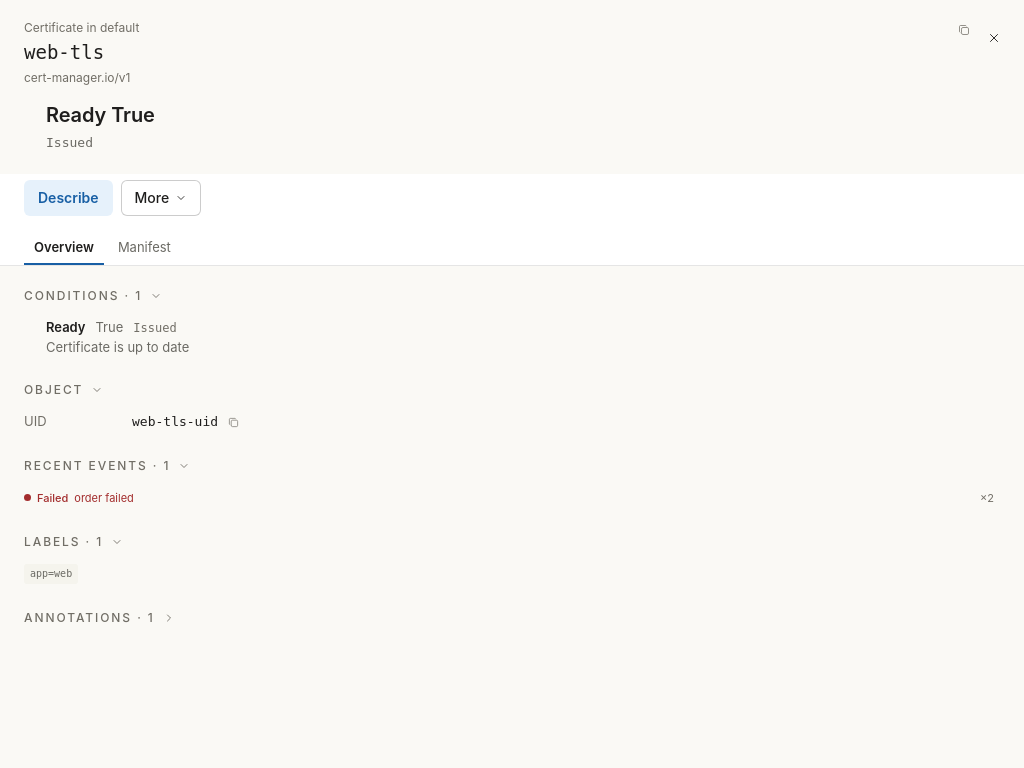
Test case: InstanceDetail › shows cursor line and column in the YAML editor footer
The width and height of the screenshot is (1024, 768).
Click the tab "Manifest": (144, 247) [108,229,181,265]
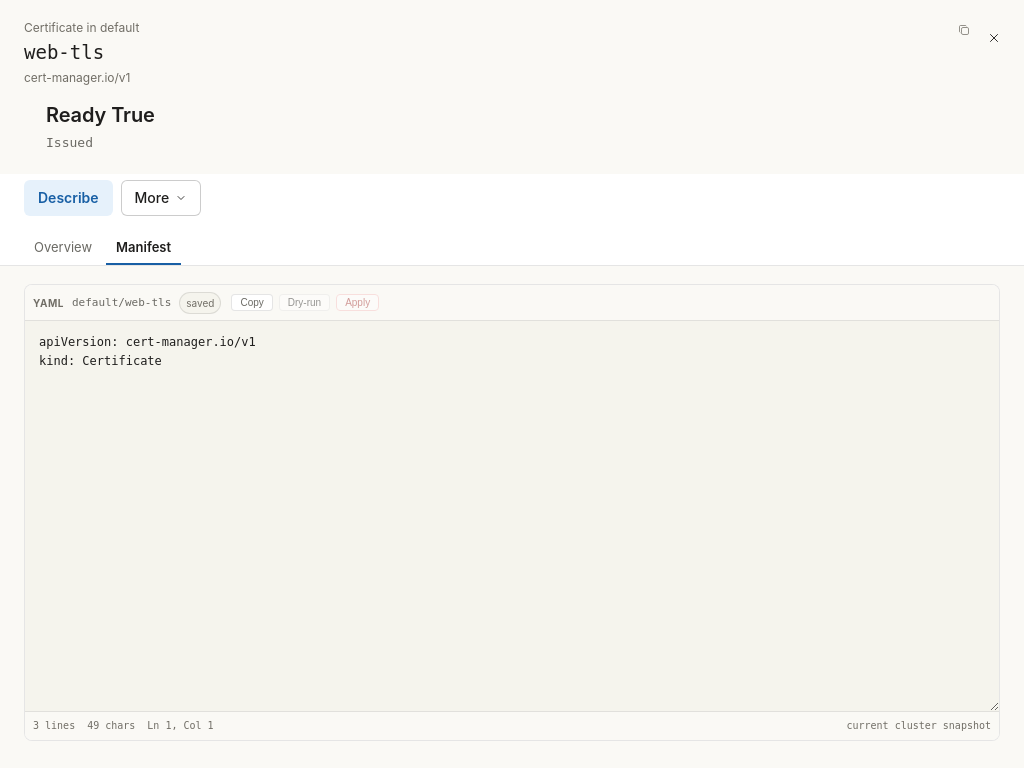
Click the text box named "resource yaml": (512, 516) [25,321,999,711]
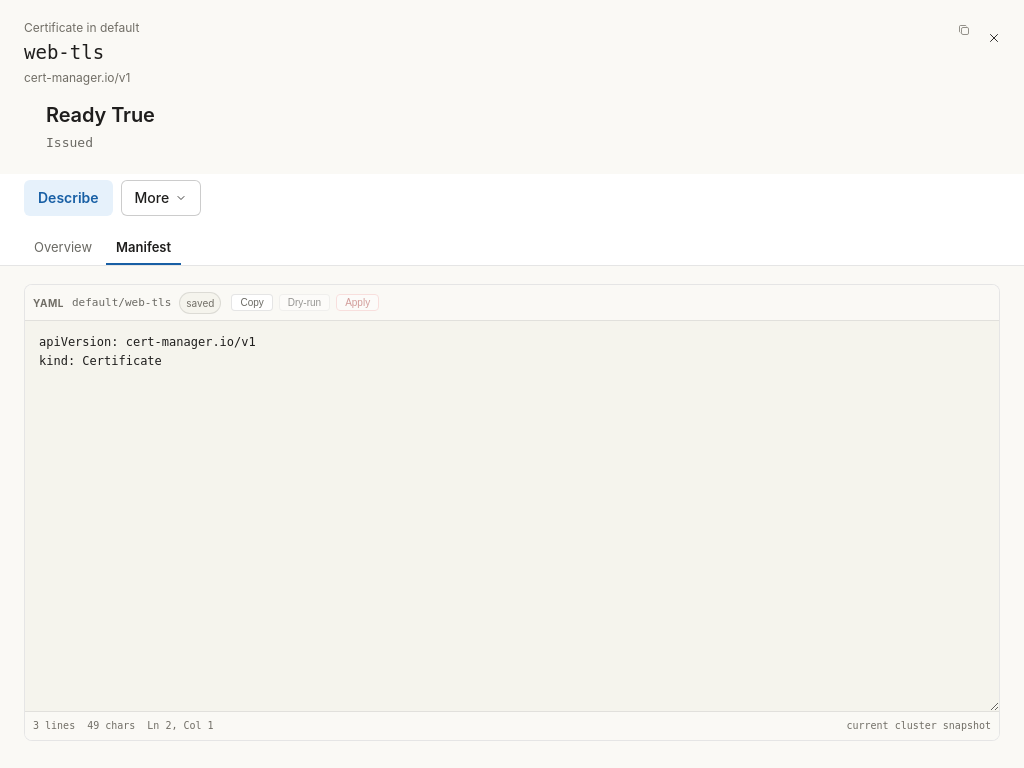
Now the text "Ln 2, Col 1" is shown, box [147,717,214,735]
